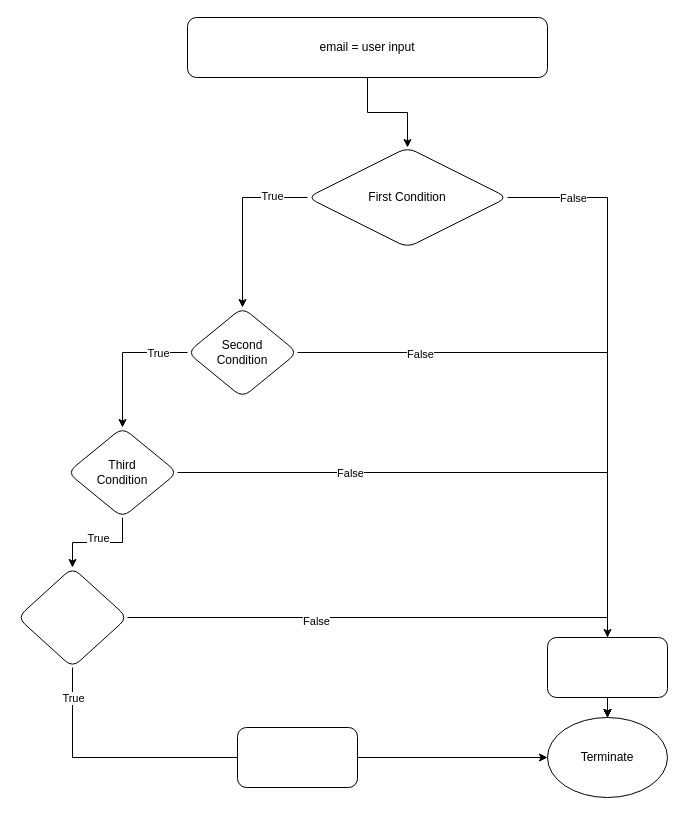
This 685x815 diagram has some shape labels left out. Here are the shapes that lost their labels. From the top down, the centre of each, then its label:
At point (72, 617): "Fourth Condition".
At point (607, 667): "Error Message".
At point (297, 757): "Valid Email".
